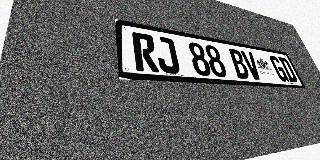8: (187, 41, 212, 76), (203, 44, 228, 77)
B: (227, 48, 251, 79)
D: (278, 57, 299, 83)
G: (268, 55, 290, 82)
J: (154, 36, 181, 74)
R: (132, 32, 159, 73)
V: (240, 50, 263, 80)
